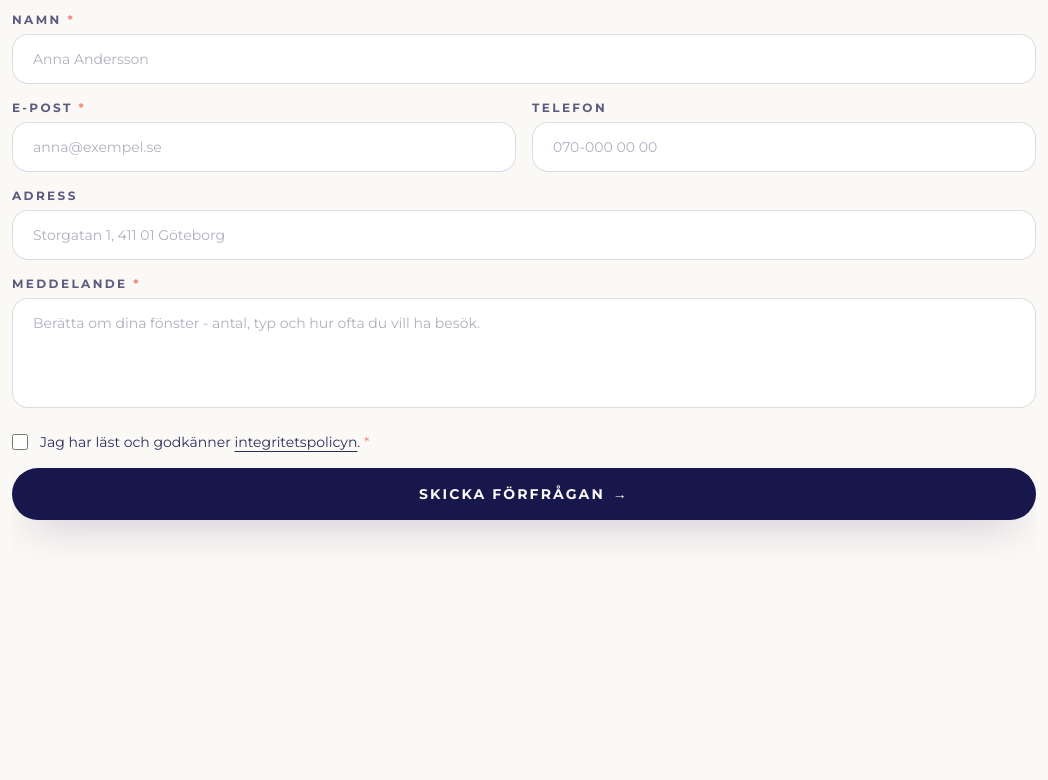
ContactForm › clears a field error when the user starts correcting it
Click the button "Skicka förfrågan →": (524, 494) [12,468,1036,520]
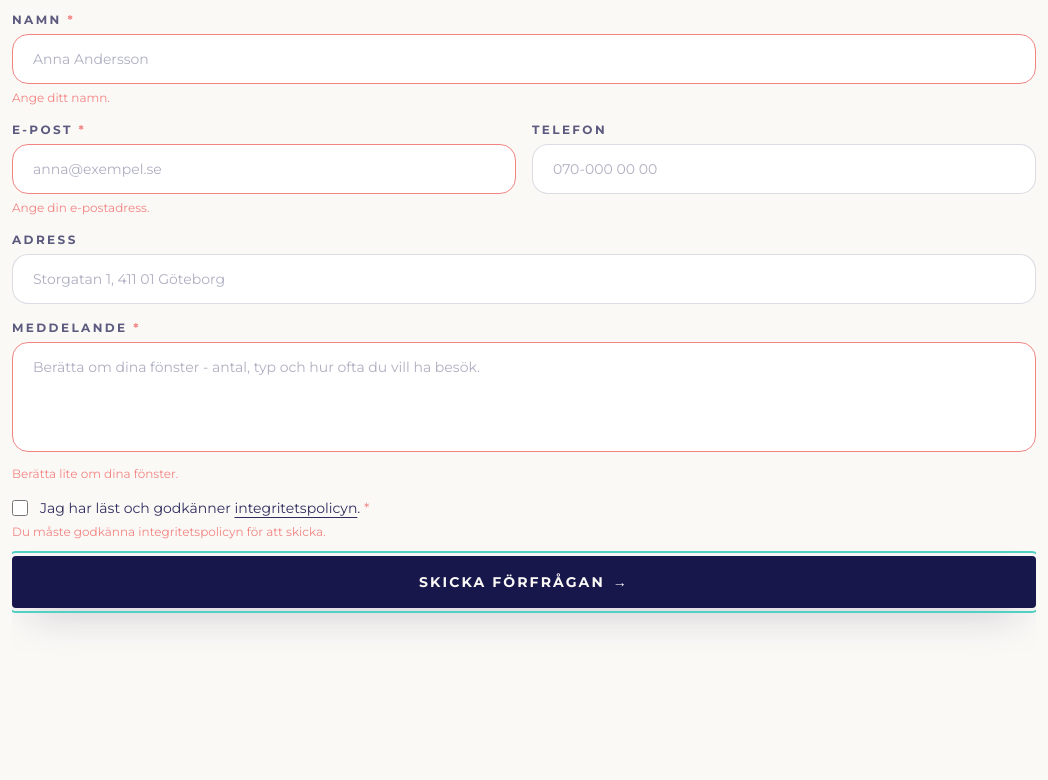
Expected: the text "Ange ditt namn." is shown, [12,90,110,105]
In the field labelled "Namn *": (524, 59) [12,34,1036,84], type "A"
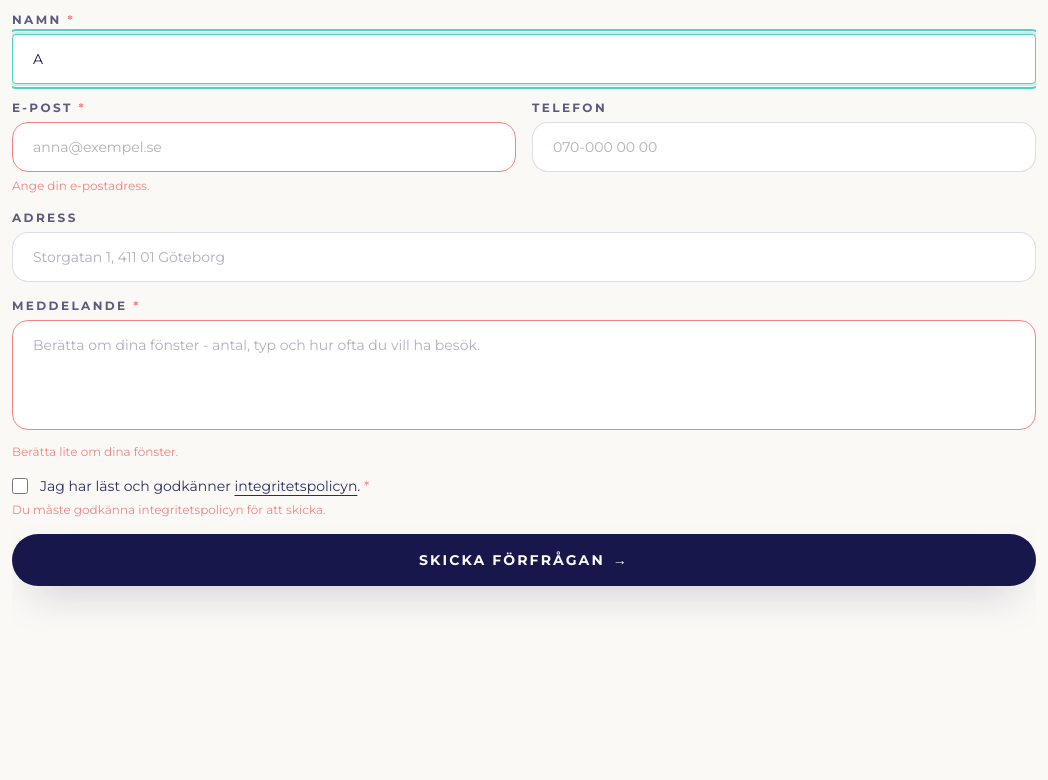
Expected: the text "Ange ditt namn." is gone
